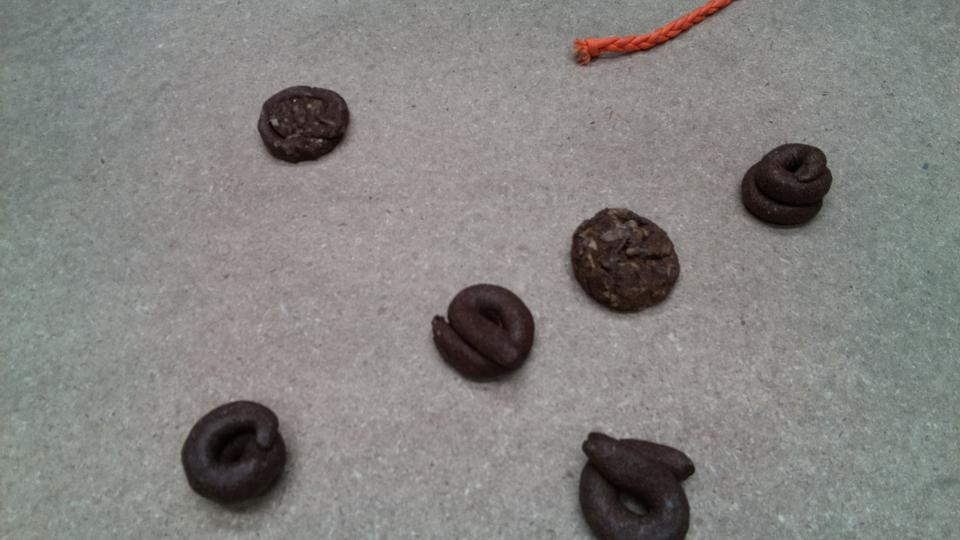poop: (575, 426, 702, 540), (566, 204, 686, 319), (179, 396, 287, 511), (429, 278, 540, 387), (738, 140, 835, 230), (251, 82, 354, 165)
rope: (569, 1, 718, 68)
